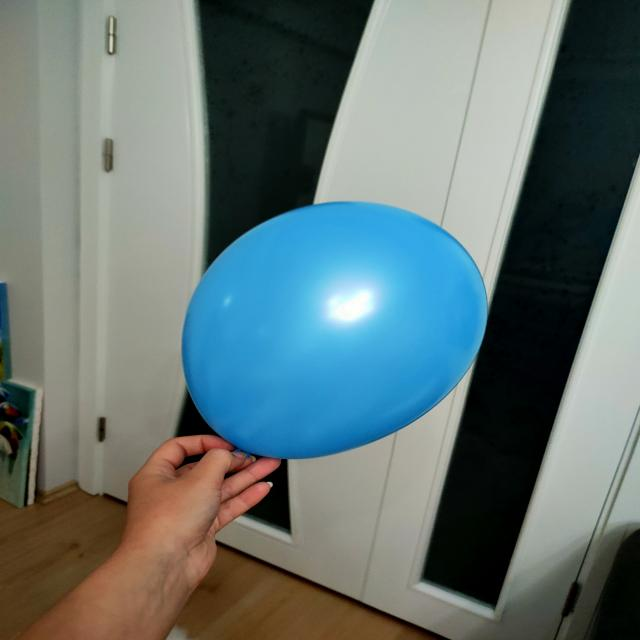blue: (182, 199, 487, 461)
